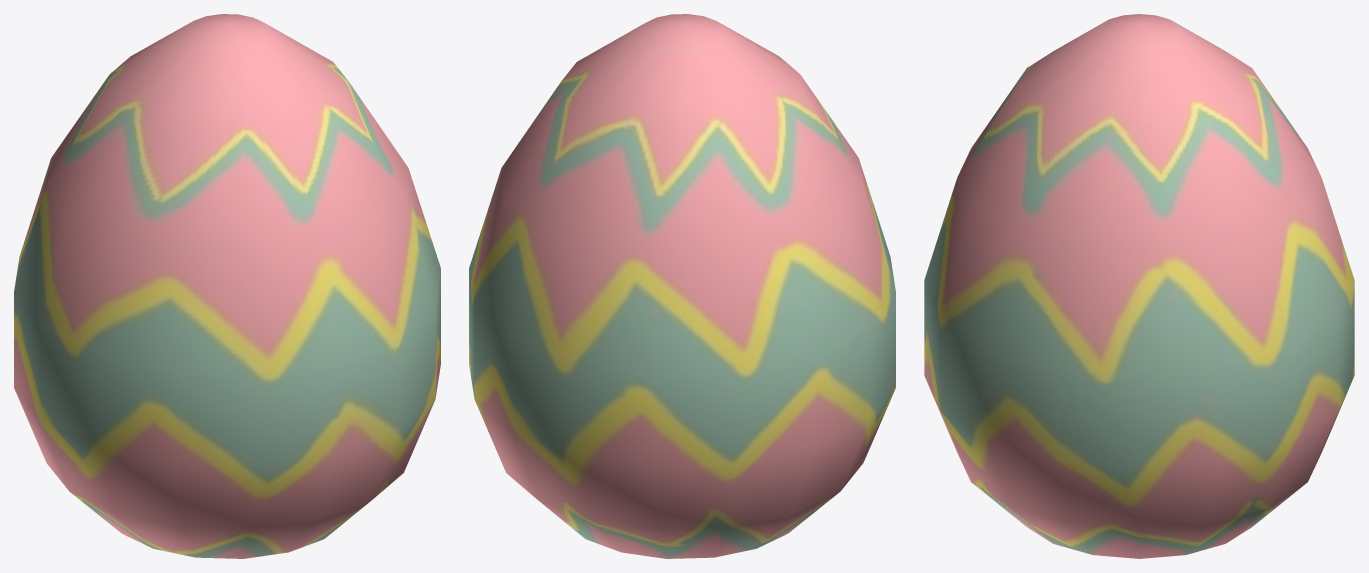
The picture shows the model from 3 angles, left to right: view 1: azimuth 30°, elevation 25°; view 2: azimuth 150°, elevation 25°; view 3: azimuth 270°, elevation 25°; orthographic projection.
Visible parts, largest first — view 1: Egg-LowPoly-ZigZaggy_0; view 2: Egg-LowPoly-ZigZaggy_0; view 3: Egg-LowPoly-ZigZaggy_0.
Part boxes in pixels (x1=…): Egg-LowPoly-ZigZaggy_0: x1=14, y1=14, x2=440, y2=558; Egg-LowPoly-ZigZaggy_0: x1=469, y1=14, x2=895, y2=558; Egg-LowPoly-ZigZaggy_0: x1=924, y1=14, x2=1354, y2=558.
Size of the model in its own units: 1.96 by 2.6 by 1.96.
1 material, 1 textured.
